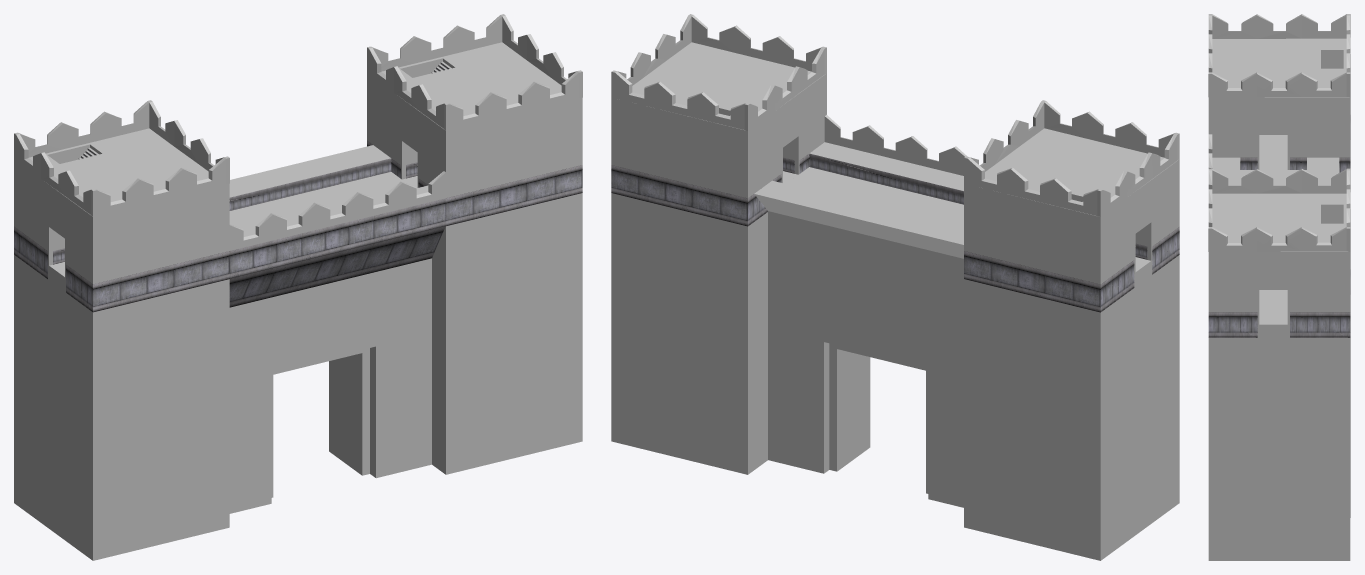
The model's file is WallGate.FBX.
3 views of the same model, side by side, from view 1: azimuth 30°, elevation 25°; view 2: azimuth 150°, elevation 25°; view 3: azimuth 270°, elevation 25° (orthographic). The views are drawn at different scales.
Visible parts, largest first — view 1: WallGate; view 2: WallGate; view 3: WallGate.
Boxes of the visible parts, x1=… form: WallGate: x1=14, y1=14, x2=582, y2=560; WallGate: x1=611, y1=14, x2=1179, y2=560; WallGate: x1=1208, y1=14, x2=1350, y2=560.
Size of the model in its own units: 610 by 440 by 171.
